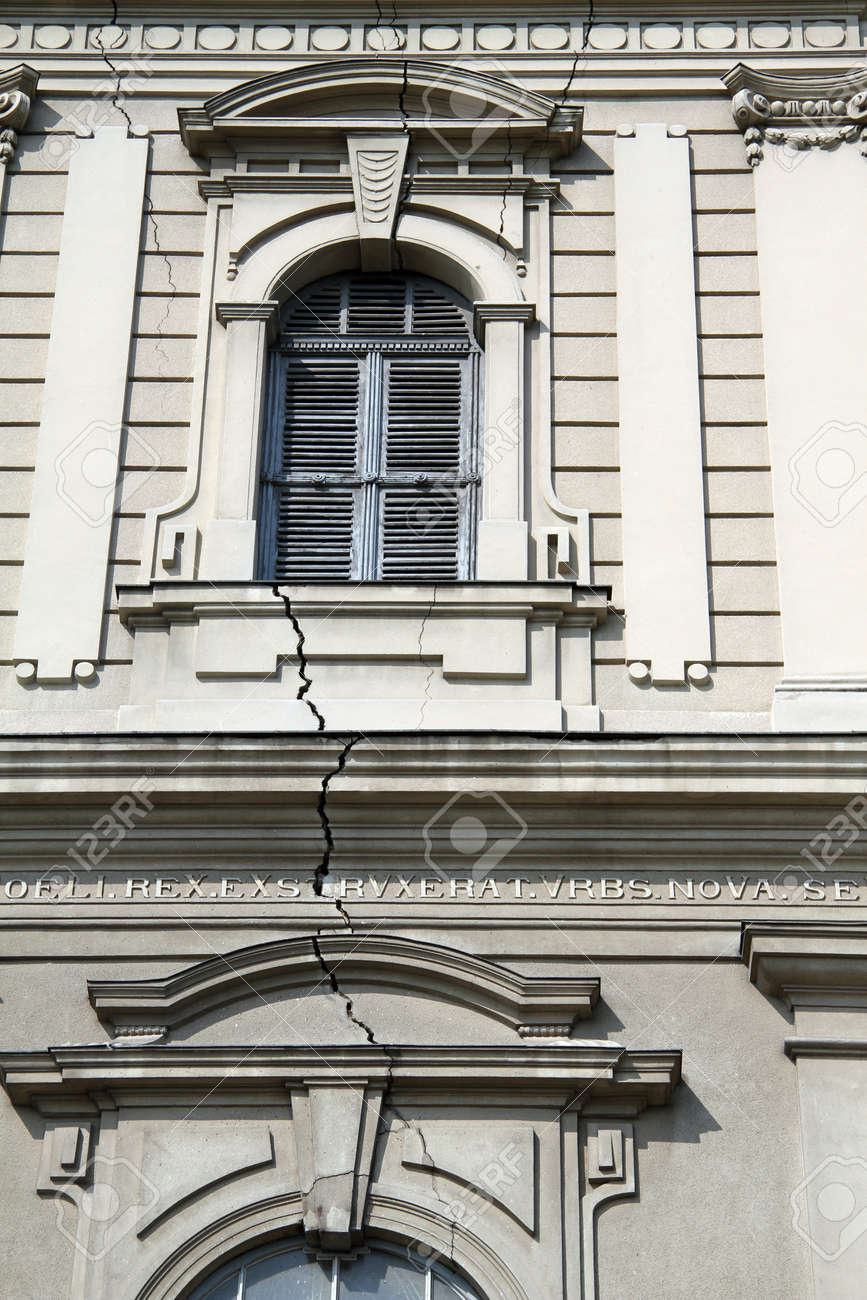crack: (75, 37, 215, 355), (252, 579, 376, 819), (354, 1032, 461, 1213), (294, 852, 377, 1018), (376, 29, 437, 149)
